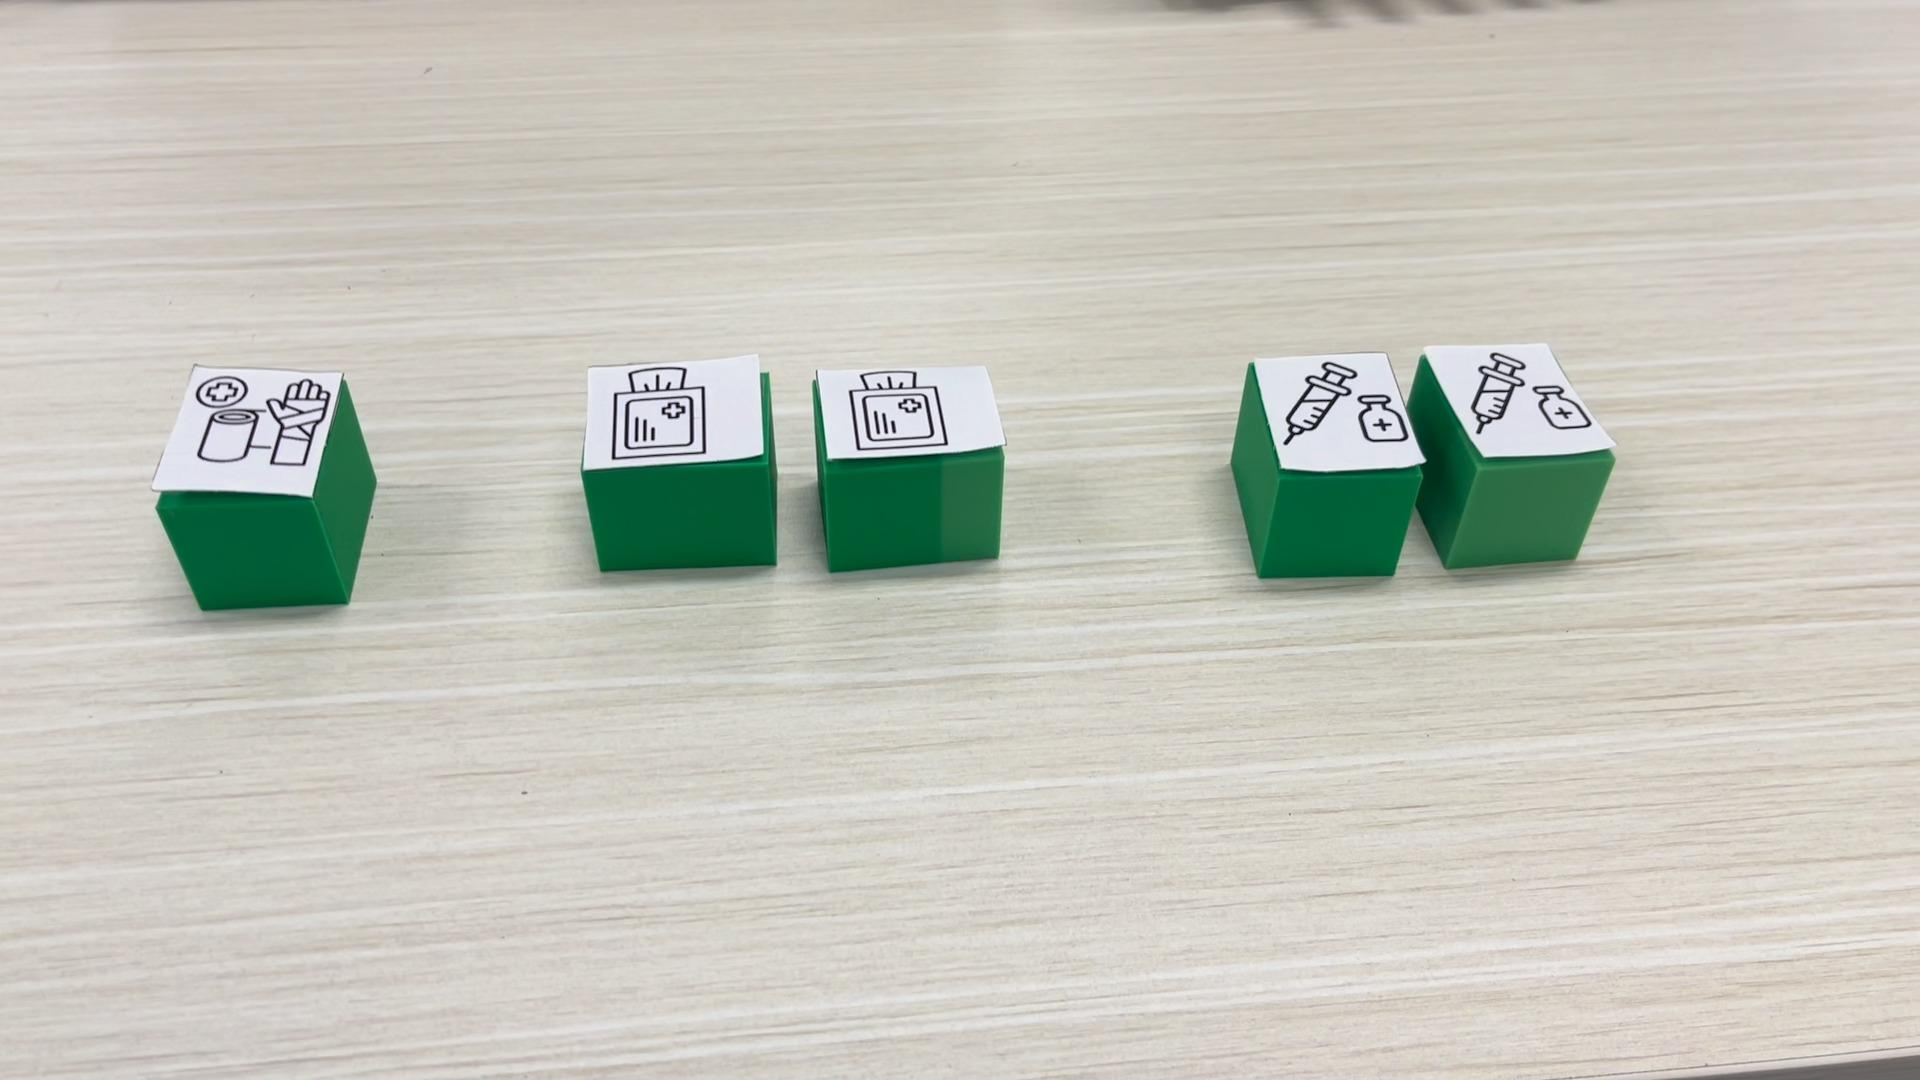Bandages: (150, 364, 376, 611)
Gauze: (578, 352, 775, 572), (814, 361, 1007, 572)
antiseptic cream: (1407, 340, 1617, 568), (1232, 348, 1425, 579)
